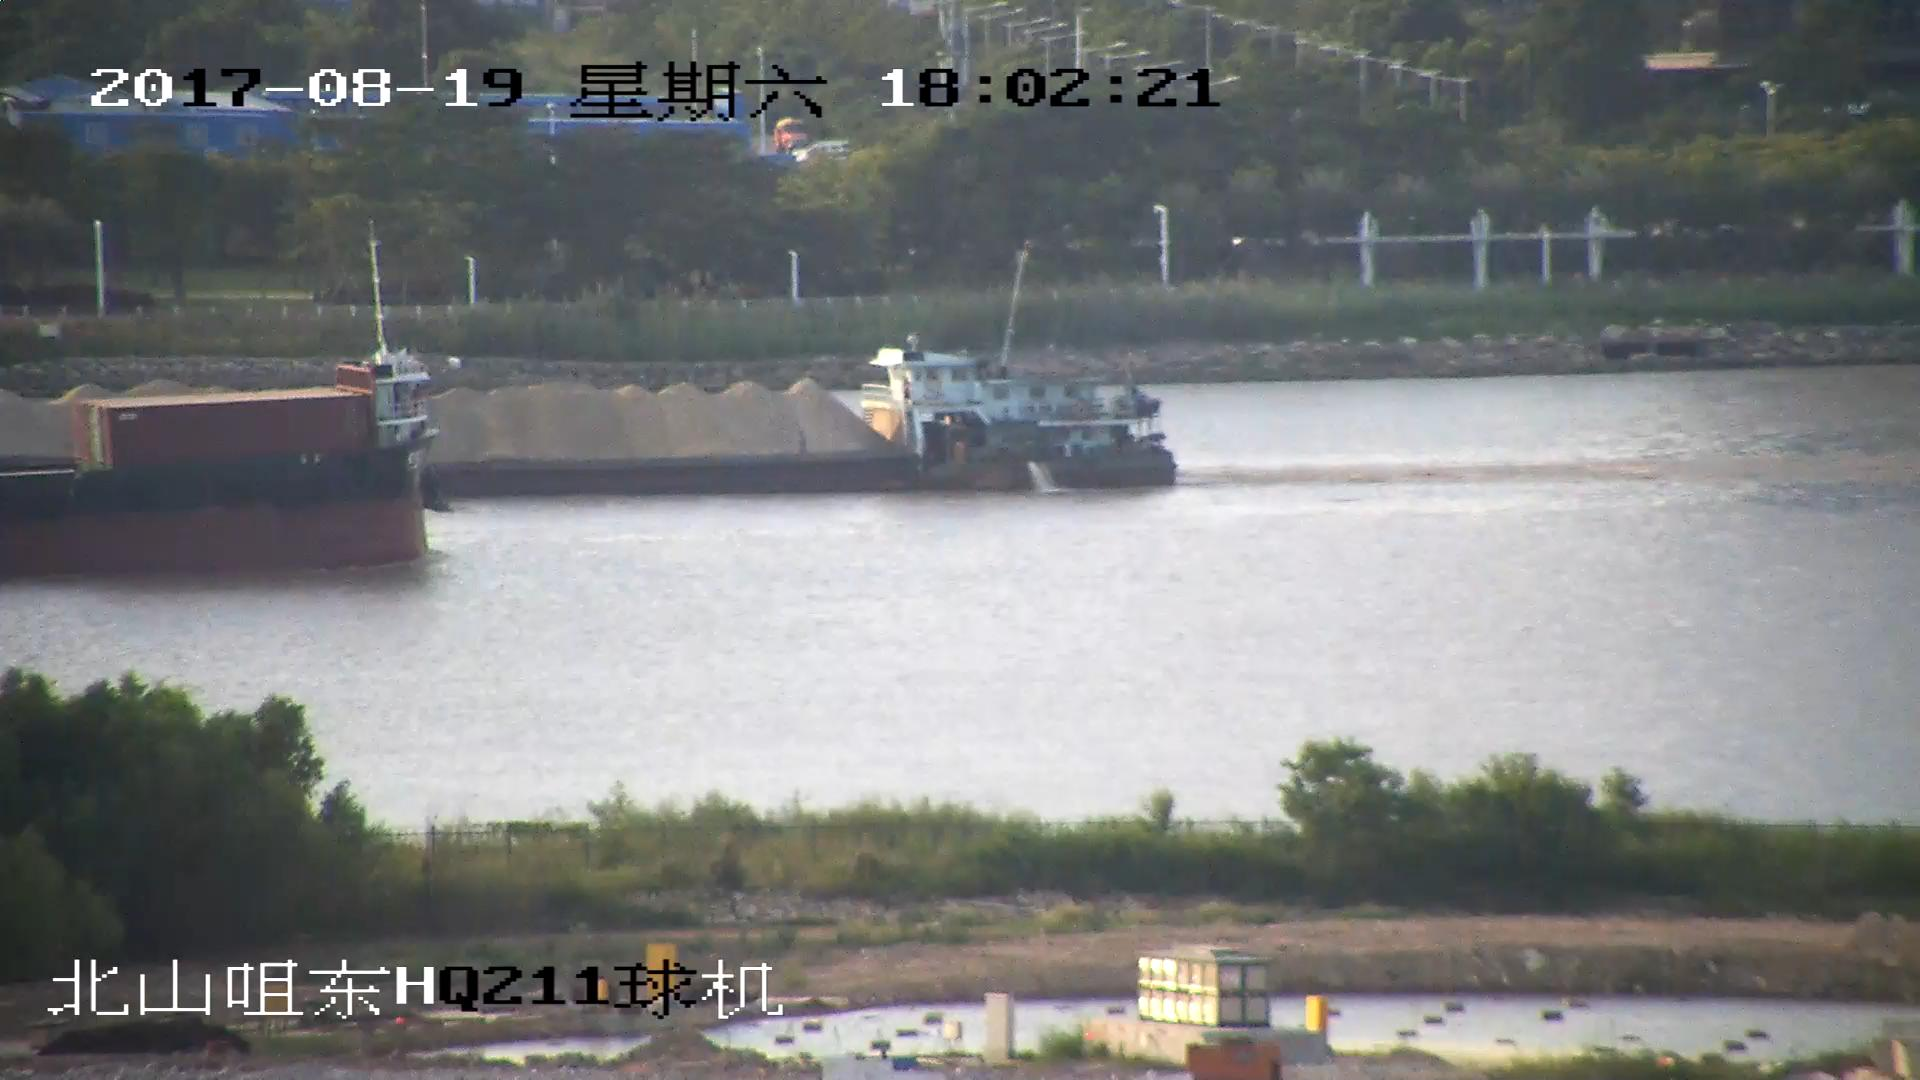container ship: (1, 346, 439, 574)
ore carrier: (422, 339, 1180, 492)
